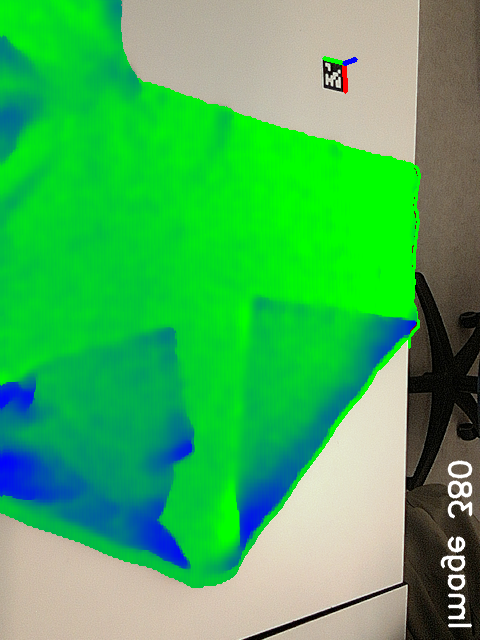V: (131, 309, 191, 366), (239, 278, 293, 337)
